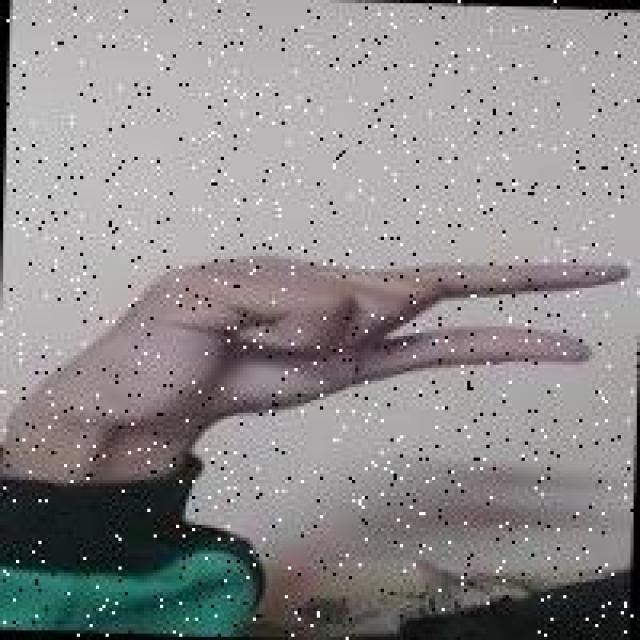G: (80, 233, 634, 444)
